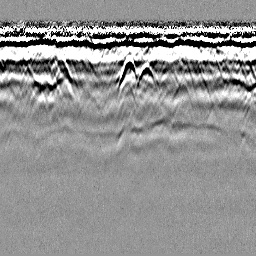cavity: (117, 54, 139, 93)
